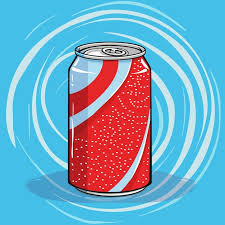can: (68, 40, 153, 197)
